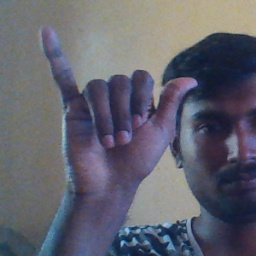J: (38, 22, 197, 188)
